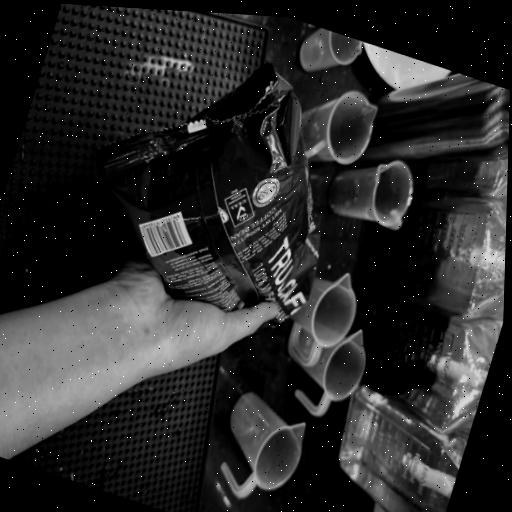cafe_hat: (24, 2, 406, 452)
